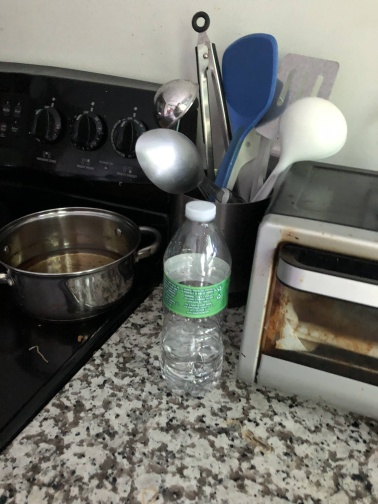bottle: (158, 197, 233, 396)
